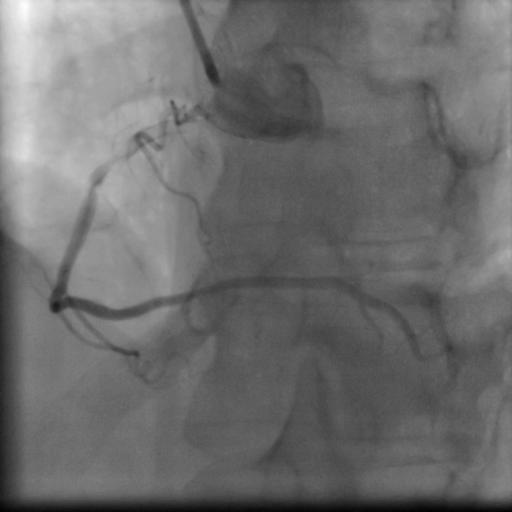Stenosis: (86, 152, 123, 175)
